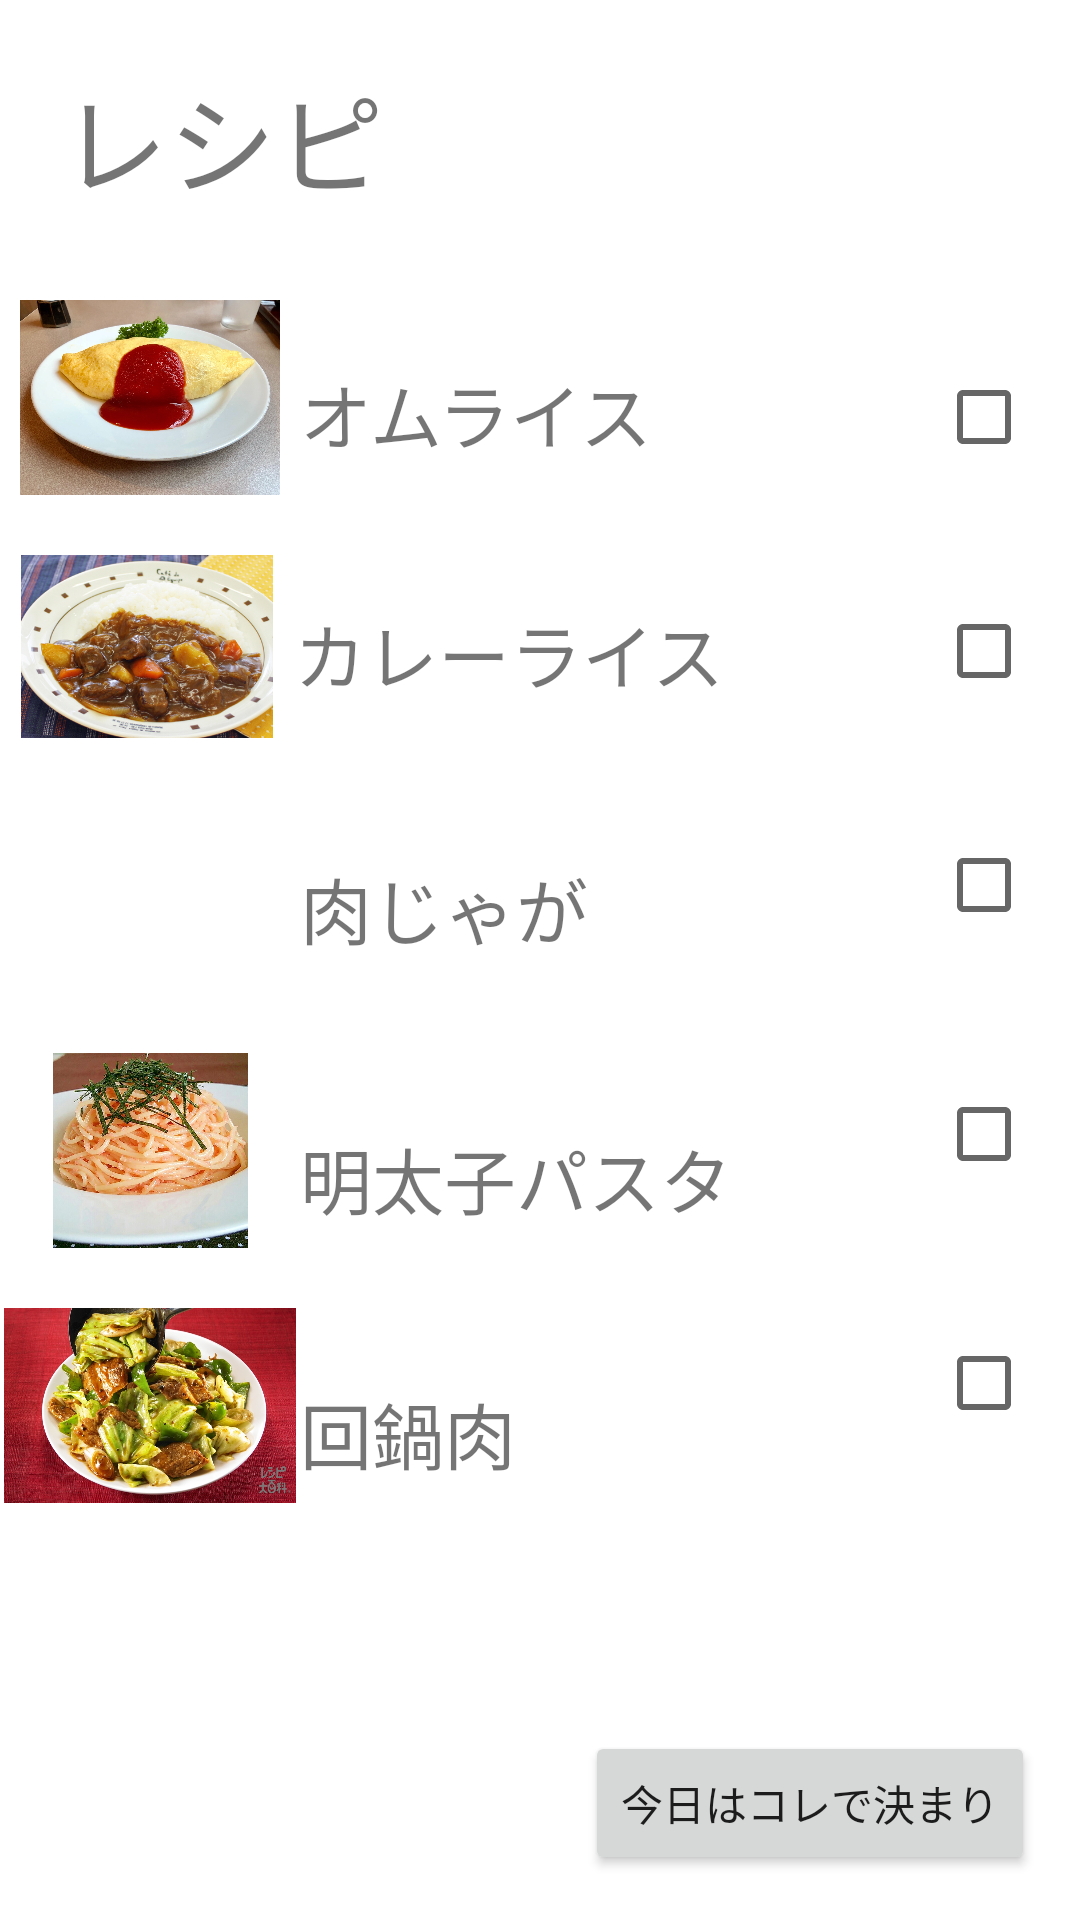

Icons on this 1080 x 1920 Android screen, each with the point to tap as (x=x, y=y):
hoikoro: (x=150, y=1405)
kareraisu: (x=147, y=646)
mentai: (x=150, y=1150)
omuraisu: (x=150, y=397)
